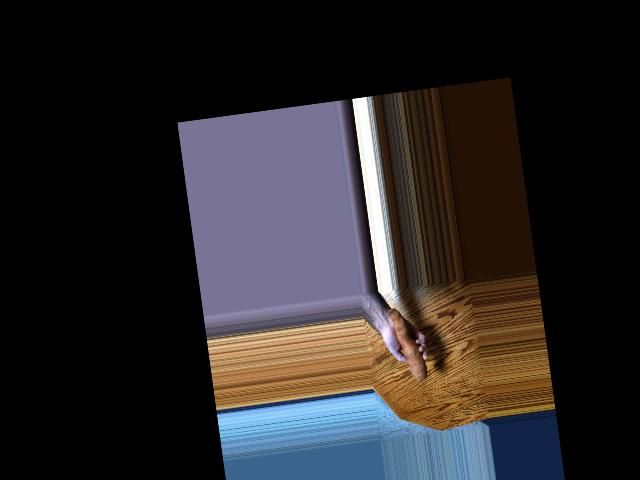sweet_potato: (391, 308, 429, 380)
